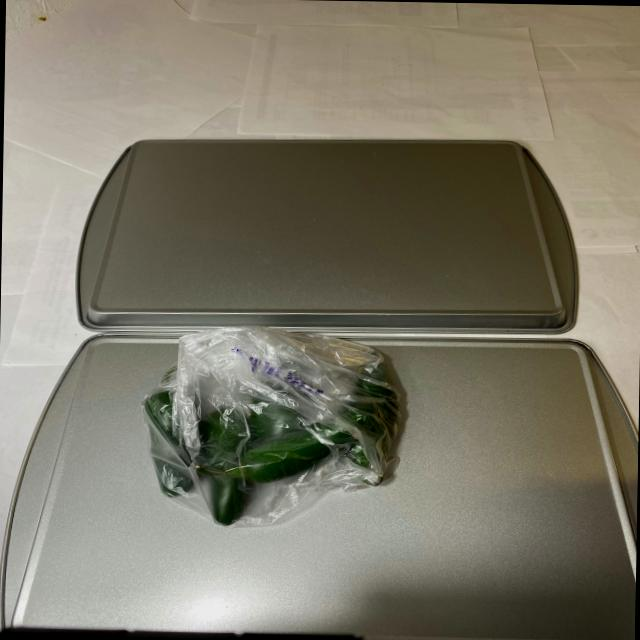chilli: (142, 335, 406, 531)
